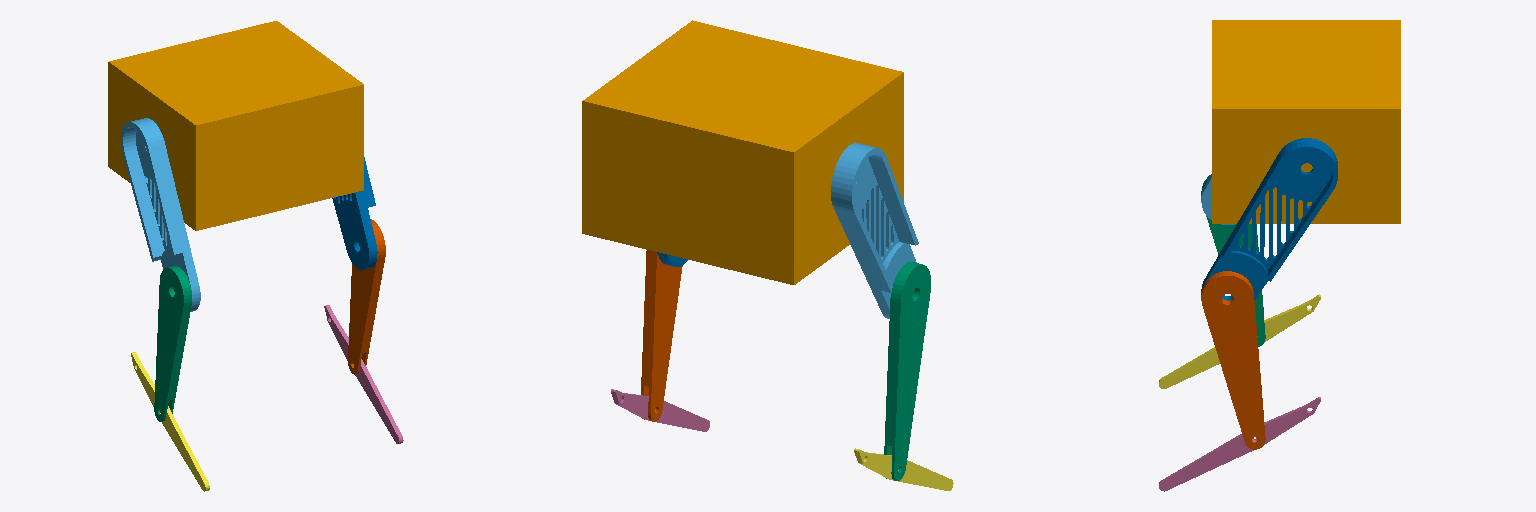
URDF robot description (robot_assy_v1):
<?xml version="1.0" encoding="utf-8"?>
<robot name="robot_assy_v1">
	<link name="base:1">
		<inertial>
			<mass value="3.5"/><!--motor+battery+other=3.5kg-->
			<origin rpy="0 0 0" xyz="0.0 0.0 0.0"/>
			<inertia ixx="0.01785888" ixy="0.0" ixz="0.0" iyy="0.020759040000000055" iyz="-2.0971224756749524e-18" izz="0.027627840000000067"/>
		</inertial>
		<collision name="base:1_collision">
			<origin rpy="1.570796326794897 -0.0 0.0" xyz="0.0 0.0 0.0"/>
			<geometry>
				<mesh filename="./meshes/base.stl" scale="0.001 0.001 0.001"/>
			</geometry>
		</collision>
		<visual name="base:1_visual">
			<origin rpy="1.570796326794897 -0.0 0.0" xyz="0.0 0.0 0.0"/>
			<geometry>
				<mesh filename="./meshes/base.stl" scale="0.001 0.001 0.001"/>
			</geometry>
		</visual>
	</link>
	<link name="link1(R):1">
		<inertial>
			<mass value="0.08814251006907975"/>
			<origin rpy="0 0 0" xyz="-0.006224976459038842 -0.036420205433869826 -0.06302054735011119"/>
			<inertia ixx="0.00035173834211278237" ixy="1.9537265841926834e-06" ixz="3.366831770874601e-06" iyy="0.0002511857436327288" iyz="-0.00012630213724801768" izz="0.00010506681710094412"/>
		</inertial>
		<collision name="link1(R):1_collision">
			<origin rpy="1.5707963267948961 2.5817292958246913e-15 -3.1415926535897785" xyz="0.0 0.0 0.0"/>
			<geometry>
				<mesh filename="./meshes/link1(R).stl" scale="0.001 0.001 0.001"/>
			</geometry>
		</collision>
		<visual name="link1(R):1_visual">
			<origin rpy="1.5707963267948961 2.5817292958246913e-15 -3.1415926535897785" xyz="0.0 0.0 0.0"/>
			<geometry>
				<mesh filename="./meshes/link1(R).stl" scale="0.001 0.001 0.001"/>
			</geometry>
		</visual>
	</link>
	<link name="link2(R):1">
		<inertial>
			<mass value="0.06295759889642692"/>
			<origin rpy="0 0 0" xyz="-0.0050000000000000044 0.008818746445098183 -0.05002254861041644"/>
			<inertia ixx="0.00013934193924509762" ixy="-2.6645352591003755e-19" ixz="3.552713678800501e-19" iyy="0.00012784737655935067" iyz="2.097606759404904e-05" izz="1.2588091597496742e-05"/>
		</inertial>
		<collision name="link2(R):1_collision">
			<origin rpy="1.5707963267948961 2.5817292958246917e-15 -3.1415926535897785" xyz="-1.429412144204889e-15 0.07499999999999994 0.12990381056766562"/>
			<geometry>
				<mesh filename="./meshes/link2(R).stl" scale="0.001 0.001 0.001"/>
			</geometry>
		</collision>
		<visual name="link2(R):1_visual">
			<origin rpy="1.5707963267948961 2.5817292958246917e-15 -3.1415926535897785" xyz="-1.429412144204889e-15 0.07499999999999994 0.12990381056766562"/>
			<geometry>
				<mesh filename="./meshes/link2(R).stl" scale="0.001 0.001 0.001"/>
			</geometry>
		</visual>
	</link>
	<link name="link3(R):1">
		<inertial>
			<mass value="0.013147274319684175"/>
			<origin rpy="0 0 0" xyz="0.0025000000000002243 -0.014658609768964888 -0.008405707826033781"/>
			<inertia ixx="2.72953652230262e-05" ixy="1.2212453270876723e-19" ixz="3.552713678800501e-19" iyy="7.048572562890598e-06" iyz="-1.1621067081816694e-05" izz="2.0301572969801197e-05"/>
		</inertial>
		<collision name="link3(R):1_collision">
			<origin rpy="1.5707963267948961 2.5817292958246917e-15 -3.1415926535897785" xyz="0.004999999999998589 0.04895277334996042 0.2776249735194966"/>
			<geometry>
				<mesh filename="./meshes/link3(R).stl" scale="0.001 0.001 0.001"/>
			</geometry>
		</collision>
		<visual name="link3(R):1_visual">
			<origin rpy="1.5707963267948961 2.5817292958246917e-15 -3.1415926535897785" xyz="0.004999999999998589 0.04895277334996042 0.2776249735194966"/>
			<geometry>
				<mesh filename="./meshes/link3(R).stl" scale="0.001 0.001 0.001"/>
			</geometry>
		</visual>
	</link>
	<link name="link1(L):1">
		<inertial>
			<mass value="0.08814251006907976"/>
			<origin rpy="0 0 0" xyz="0.006224976459039563 -0.036420205433869764 -0.06302054735011123"/>
			<inertia ixx="0.00035173834211278654" ixy="-1.9537265841909957e-06" ixz="-3.366831770872292e-06" iyy="0.000251185743632729" iyz="-0.0001263021372480183" izz="0.00010506681710094483"/>
		</inertial>
		<collision name="link1(L):1_collision">
			<origin rpy="1.570796326794897 1.1717357781651936e-30 3.6082248300317494e-16" xyz="0.0 -7.888609052210117e-33 -2.4084817355582763e-48"/>
			<geometry>
				<mesh filename="./meshes/link1(L).stl" scale="0.001 0.001 0.001"/>
			</geometry>
		</collision>
		<visual name="link1(L):1_visual">
			<origin rpy="1.570796326794897 1.1717357781651936e-30 3.6082248300317494e-16" xyz="0.0 -7.888609052210117e-33 -2.4084817355582763e-48"/>
			<geometry>
				<mesh filename="./meshes/link1(L).stl" scale="0.001 0.001 0.001"/>
			</geometry>
		</visual>
	</link>
	<link name="link2(L):1">
		<inertial>
			<mass value="0.06295759889642692"/>
			<origin rpy="0 0 0" xyz="0.0050000000000000044 0.008818746445098224 -0.050022548610416384"/>
			<inertia ixx="0.00013934193924511505" ixy="0.0" ixz="0.0" iyy="0.00012784737655934748" iyz="2.0976067594048953e-05" izz="1.258809159749692e-05"/>
		</inertial>
		<collision name="link2(L):1_collision">
			<origin rpy="1.570796326794897 -5.6090165041319244e-18 3.607788840473245e-16" xyz="-4.163336342344337e-17 0.07499999999999982 0.12990381056766542"/>
			<geometry>
				<mesh filename="./meshes/link2(L).stl" scale="0.001 0.001 0.001"/>
			</geometry>
		</collision>
		<visual name="link2(L):1_visual">
			<origin rpy="1.570796326794897 -5.6090165041319244e-18 3.607788840473245e-16" xyz="-4.163336342344337e-17 0.07499999999999982 0.12990381056766542"/>
			<geometry>
				<mesh filename="./meshes/link2(L).stl" scale="0.001 0.001 0.001"/>
			</geometry>
		</visual>
	</link>
	<link name="link3(L):1">
		<inertial>
			<mass value="0.013147274319684174"/>
			<origin rpy="0 0 0" xyz="0.002500000000000016 -0.014658609768964853 -0.008405707826033726"/>
			<inertia ixx="2.729536522303313e-05" ixy="-1.5543122344752191e-19" ixz="1.7763568394002505e-19" iyy="7.048572562889177e-06" iyz="-1.1621067081815894e-05" izz="2.030157296980071e-05"/>
		</inertial>
		<collision name="link3(L):1_collision">
			<origin rpy="1.5707963267948972 -1.4738824951351849e-16 3.2934718481553383e-16" xyz="-5.551115123125783e-17 0.048952773349960475 0.27762497351949633"/>
			<geometry>
				<mesh filename="./meshes/link3(L).stl" scale="0.001 0.001 0.001"/>
			</geometry>
		</collision>
		<visual name="link3(L):1_visual">
			<origin rpy="1.5707963267948972 -1.4738824951351849e-16 3.2934718481553383e-16" xyz="-5.551115123125783e-17 0.048952773349960475 0.27762497351949633"/>
			<geometry>
				<mesh filename="./meshes/link3(L).stl" scale="0.001 0.001 0.001"/>
			</geometry>
		</visual>
	</link>
	<joint name="rev0" type="revolute">
		<parent link="base:1"/>
		<child link="link1(L):1"/>
		<origin rpy="0 0 0" xyz="0.1 7.888609052210117e-33 2.4084817355582763e-48"/>
		<axis xyz="1.0 0.0 0.0"/>
		<limit effort="100" lower="-1.5707963267948966" upper="1.5707963267948966" velocity="10"/>

	</joint>
	<joint name="rev1" type="revolute">
		<parent link="link1(L):1"/>
		<child link="link2(L):1"/>
		<origin rpy="0 0 0" xyz="0.009999999999999995 -0.07499999999999998 -0.12990381056766576"/>
		<axis xyz="-1.0000000000000016 -3.608224830031755e-16 1.1717357781651924e-30"/>
		<limit effort="100" lower="-1.5707963267948966" upper="1.5707963267948966" velocity="10"/>
	</joint>
	<joint name="rev2" type="revolute">
		<parent link="link2(L):1"/>
		<child link="link3(L):1"/>
		<origin rpy="0 0 0" xyz="0.002500000000000016 0.026047226650039612 -0.1477211629518314"/>
		<axis xyz="-1.0000000000000016 -3.6077888404732505e-16 -5.609016504131908e-18"/>
		<limit effort="100" lower="-1.5707963267948966" upper="1.5707963267948966" velocity="10"/>
	</joint>
	<joint name="rev3" type="revolute">
		<parent link="base:1"/>
		<child link="link1(R):1"/>
		<origin rpy="0 0 0" xyz="-0.10000000000000005 6.661338147750939e-18 2.220446049250313e-18"/>
		<axis xyz="-1.0 0.0 0.0"/>
		<limit effort="100" lower="-1.5707963267948966" upper="1.5707963267948966" velocity="10"/>
	</joint>
	<joint name="rev4" type="revolute">
		<parent link="link1(R):1"/>
		<child link="link2(R):1"/>
		<origin rpy="0 0 0" xyz="-0.009999999999999967 -0.07499999999999991 -0.12990381056766578"/>
		<axis xyz="-0.9999999999999993 -1.4641714418585148e-14 -2.5817292958246878e-15"/>
		<limit effort="100" lower="-1.5707963267948966" upper="1.5707963267948966" velocity="10"/>
	</joint>

	<joint name="rev5" type="revolute">
		<parent link="link2(R):1"/>
		<child link="link3(R):1"/>
		<origin rpy="0 0 0" xyz="-0.007500000000000034 0.02604722665003955 -0.14772116295183105"/>
		<axis xyz="0.9999999999999993 1.4641714418585145e-14 2.5817292958246878e-15"/>
		<limit effort="100" lower="-1.5707963267948966" upper="1.5707963267948966" velocity="10"/>

	</joint>
</robot>

--- What the picture shows (computed from the rendered views, not written in the file) ---
Views: 3 orthographic renders of the robot side by side, from view 1: azimuth 30°, elevation 25°; view 2: azimuth 150°, elevation 25°; view 3: azimuth 270°, elevation 25°.
Robot: robot_assy_v1 — 7 links, 6 joints (6 revolute); root link base:1; default pose: all joints at 0.
Links seen in each view (by area): view 1: base:1, link1(R):1, link2(R):1, link2(L):1, link1(L):1, link3(L):1, link3(R):1; view 2: base:1, link1(R):1, link2(R):1, link2(L):1, link3(R):1, link3(L):1; view 3: base:1, link1(L):1, link2(L):1, link3(L):1, link3(R):1, link2(R):1.
Boxes of the visible links, x1=… form: base:1: x1=108, y1=21, x2=363, y2=230; link1(R):1: x1=121, y1=118, x2=200, y2=311; link2(R):1: x1=154, y1=266, x2=191, y2=421; link2(L):1: x1=348, y1=219, x2=385, y2=374; link1(L):1: x1=332, y1=157, x2=377, y2=269; link3(L):1: x1=324, y1=305, x2=403, y2=443; link3(R):1: x1=131, y1=352, x2=209, y2=491; base:1: x1=582, y1=20, x2=903, y2=284; link1(R):1: x1=831, y1=143, x2=918, y2=318; link2(R):1: x1=884, y1=262, x2=930, y2=480; link2(L):1: x1=641, y1=250, x2=682, y2=421; link3(R):1: x1=854, y1=448, x2=953, y2=490; link3(L):1: x1=611, y1=389, x2=709, y2=431; base:1: x1=1212, y1=20, x2=1400, y2=223; link1(L):1: x1=1201, y1=138, x2=1337, y2=300; link2(L):1: x1=1201, y1=271, x2=1265, y2=449; link3(L):1: x1=1159, y1=397, x2=1320, y2=491; link3(R):1: x1=1159, y1=294, x2=1320, y2=388; link2(R):1: x1=1201, y1=175, x2=1265, y2=346.
Bounding box of the posed robot: 0.24 × 0.2306 × 0.3926 m (x, y, z).
Meshes: 7 distinct files referenced, 7 mesh visuals loaded (7 binary STL).
